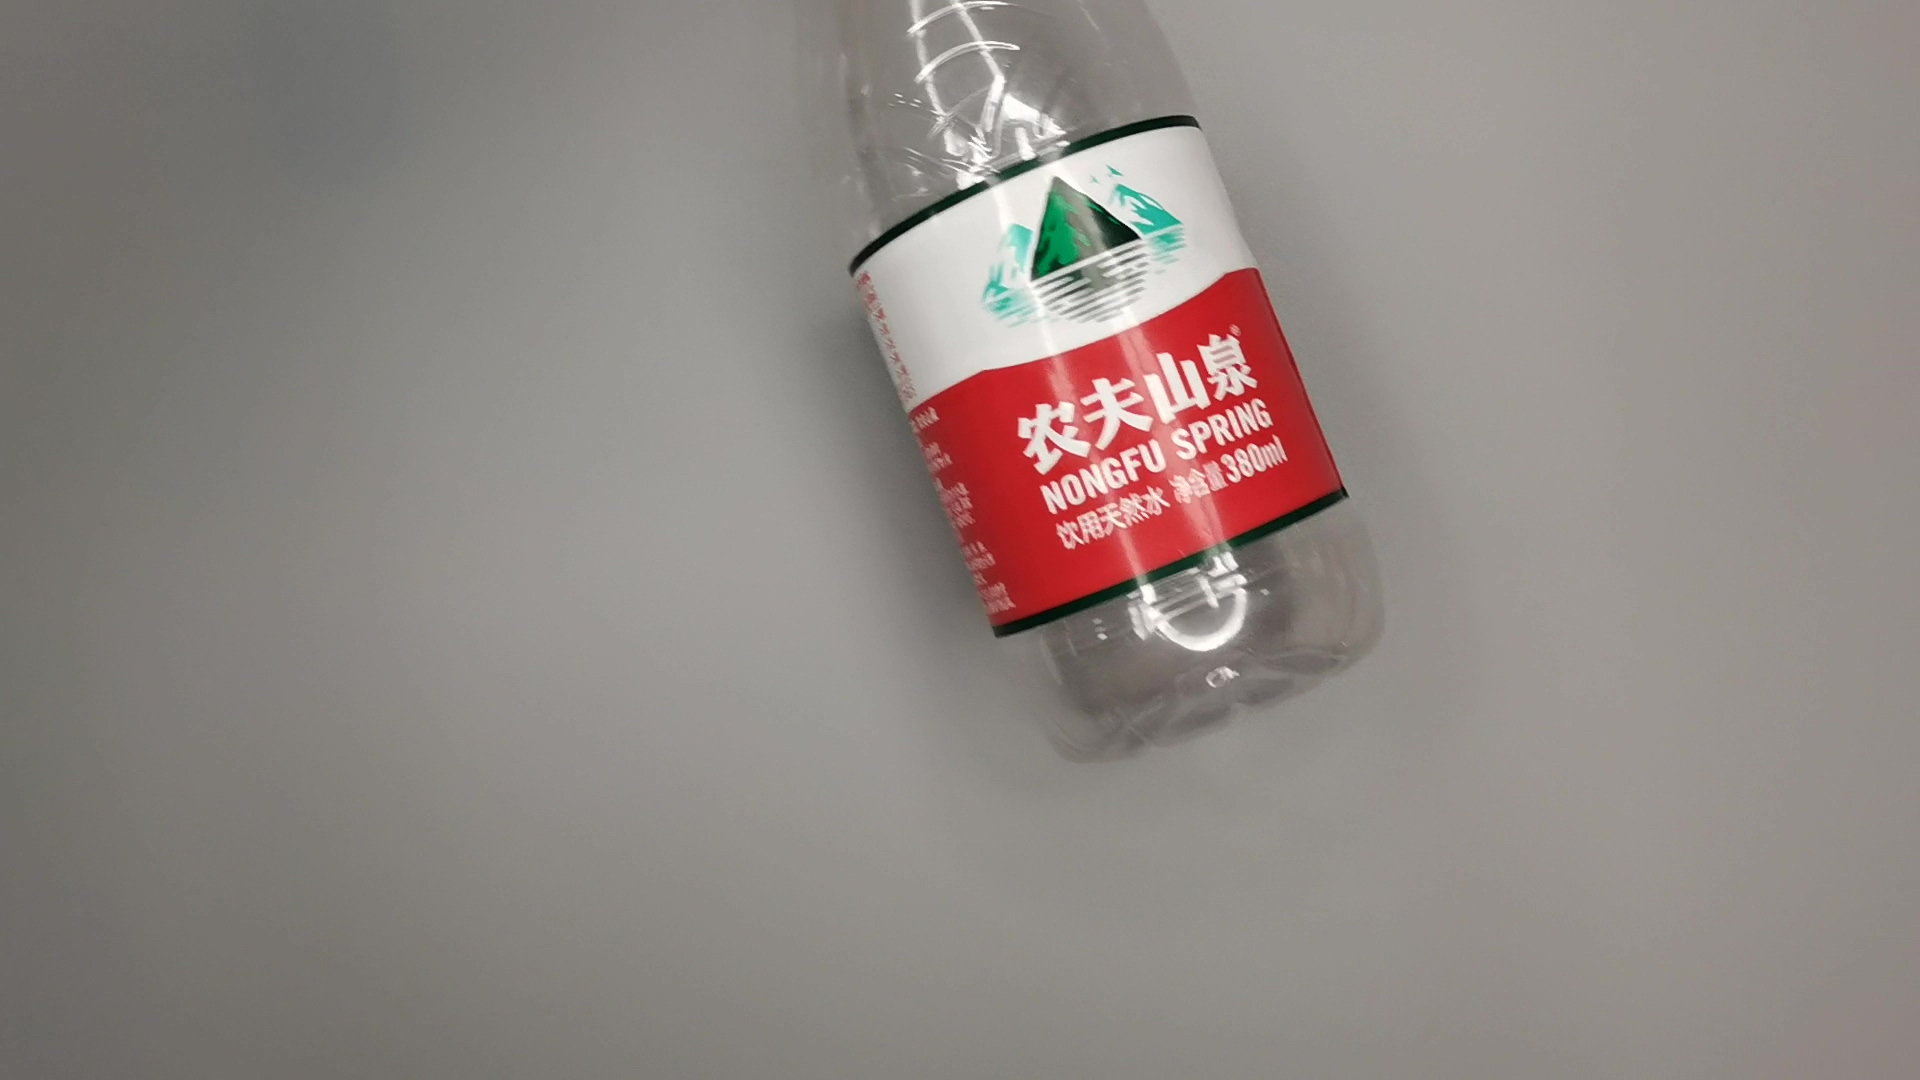bottle: (789, 1, 1396, 789)
